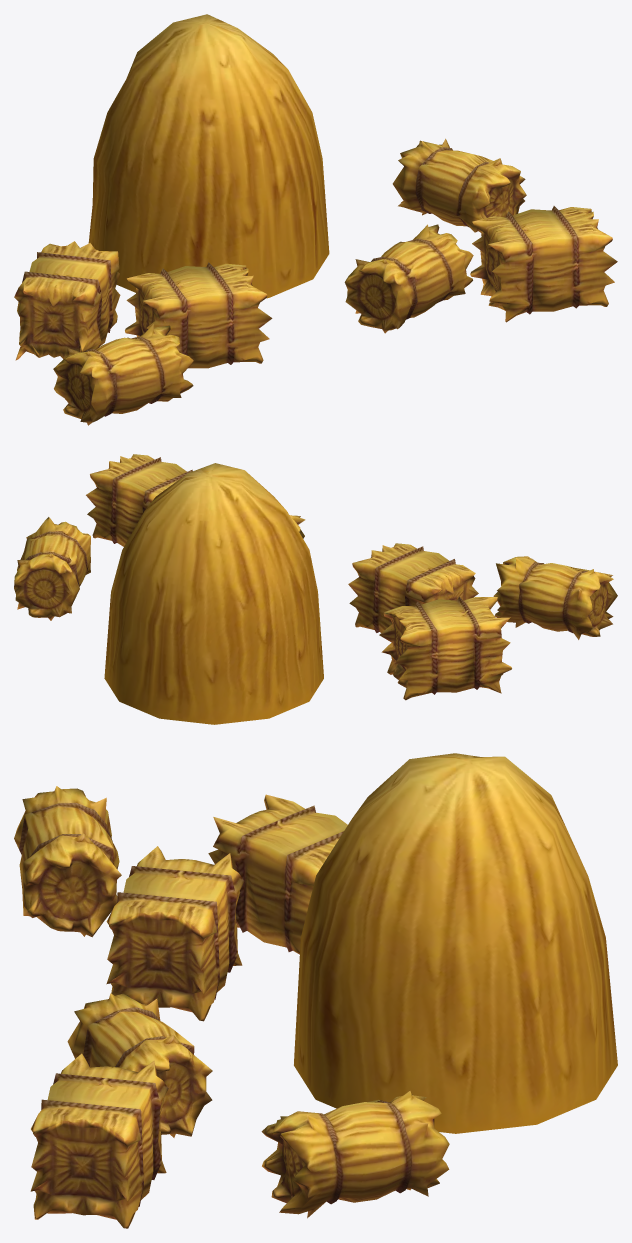
Rendered from haybale.glb.
3 views of the same model, one above another, from view 1: azimuth 30°, elevation 25°; view 2: azimuth 150°, elevation 25°; view 3: azimuth 270°, elevation 25° (orthographic). The views are drawn at different scales.
Parts seen in each view (by area): view 1: HayCock_Straw, Cube_Straw03, Cube_Straw01, Cube_Straw02, HayRoll_Straw02, HayRoll_Straw01, HayRoll_Straw03; view 2: HayCock_Straw, Cube_Straw02, HayRoll_Straw02, Cube_Straw01, HayRoll_Straw03, Cube_Straw03; view 3: HayCock_Straw, Cube_Straw03, Cube_Straw01, HayRoll_Straw03, HayRoll_Straw02, Cube_Straw02, HayRoll_Straw01.
Boxes of the visible parts, <box> form: HayCock_Straw: <box>88,14,329,298</box>; Cube_Straw03: <box>470,206,617,322</box>; Cube_Straw01: <box>125,262,272,368</box>; Cube_Straw02: <box>14,241,120,360</box>; HayRoll_Straw02: <box>53,324,193,425</box>; HayRoll_Straw01: <box>344,224,473,333</box>; HayRoll_Straw03: <box>392,138,526,232</box>; HayCock_Straw: <box>104,463,323,724</box>; Cube_Straw02: <box>379,596,511,700</box>; HayRoll_Straw02: <box>493,556,617,639</box>; Cube_Straw01: <box>348,543,478,632</box>; HayRoll_Straw03: <box>14,517,90,620</box>; Cube_Straw03: <box>86,454,192,546</box>; HayCock_Straw: <box>294,753,617,1133</box>; Cube_Straw03: <box>30,1053,168,1228</box>; Cube_Straw01: <box>106,846,244,1021</box>; HayRoll_Straw03: <box>261,1091,449,1218</box>; HayRoll_Straw02: <box>14,786,121,937</box>; Cube_Straw02: <box>208,794,347,954</box>; HayRoll_Straw01: <box>67,993,212,1137</box>.
Size of the model in its own units: 2.52 by 0.9943 by 1.78.
Materials: 1 (1 with a texture image).
